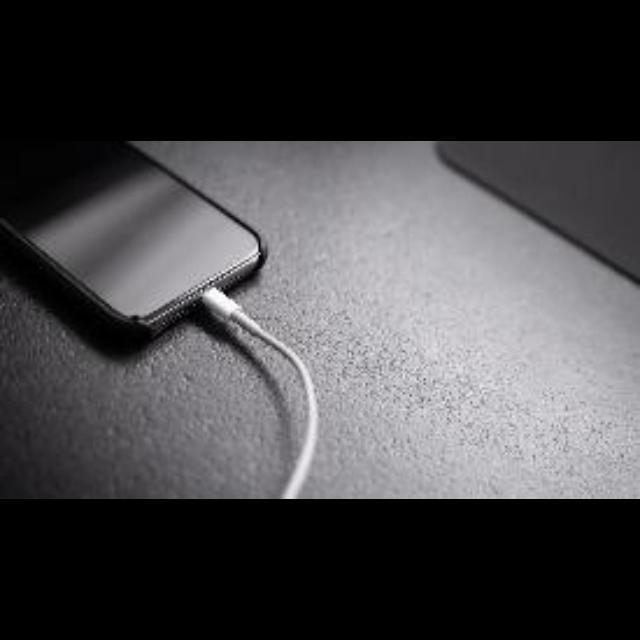Phone: (2, 141, 268, 341)
